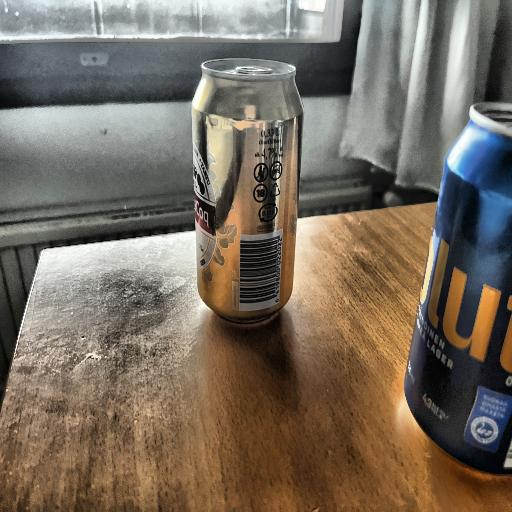A_LeCoq: (173, 31, 325, 351)
koti: (389, 72, 512, 496)
